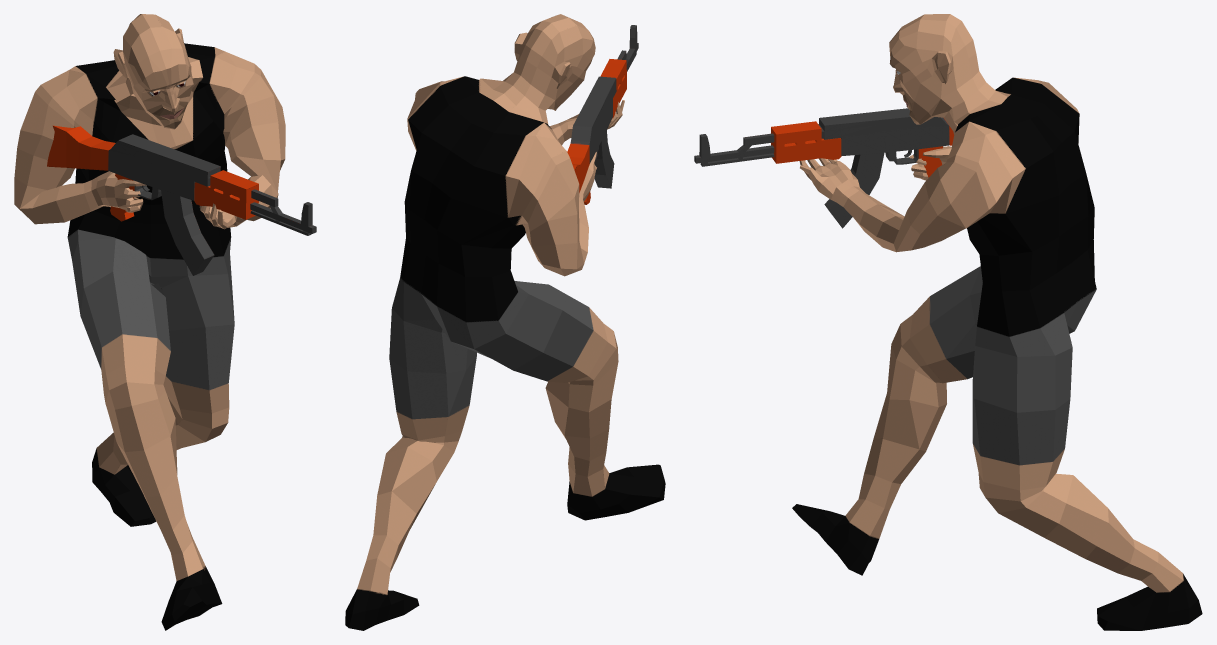
File: PlayerWalk(20).obj
3 views of the same model, side by side, from view 1: azimuth 30°, elevation 25°; view 2: azimuth 150°, elevation 25°; view 3: azimuth 270°, elevation 25° (orthographic). The views are drawn at different scales.
Parts seen in each view (by area): view 1: Plane002, Object001; view 2: Plane002, Object001; view 3: Plane002, Object001.
Part boxes in pixels (x1,y1,x2,y2): Plane002: (14, 14, 285, 630); Object001: (47, 125, 316, 275); Plane002: (345, 14, 665, 630); Object001: (567, 25, 638, 204); Plane002: (792, 14, 1202, 630); Object001: (694, 108, 954, 228).
Bounding box in the file's own units: 603 × 1544 × 1248.
